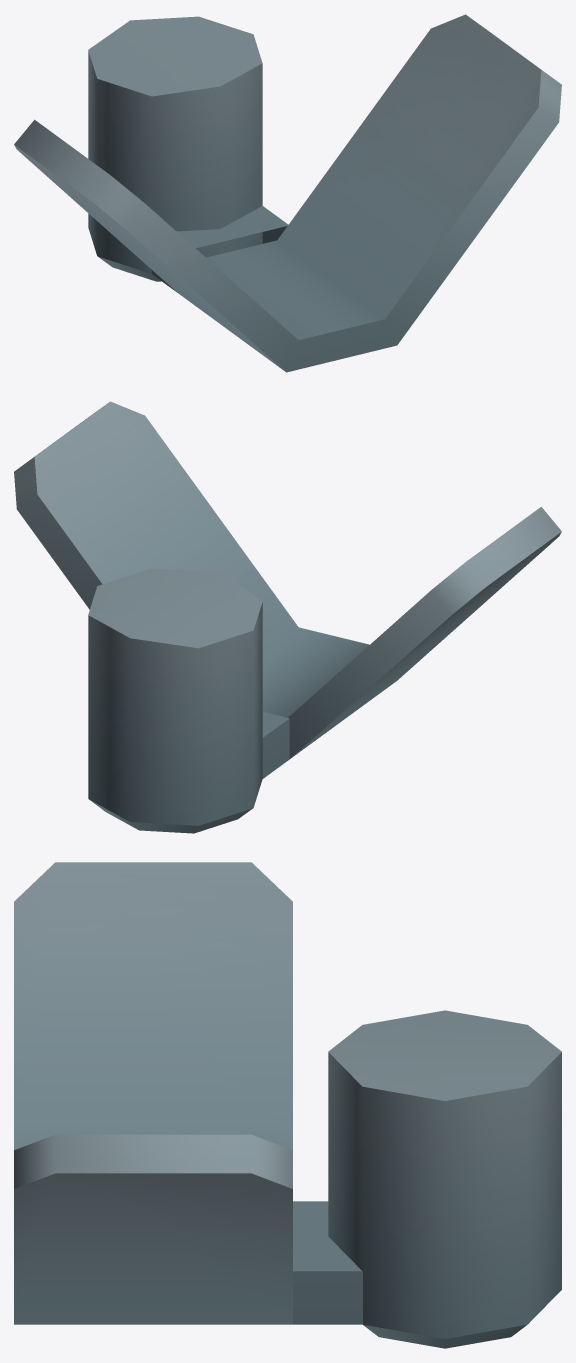
File: Support_001.fbx
3 views of the same model, one above another, from view 1: azimuth 30°, elevation 25°; view 2: azimuth 150°, elevation 25°; view 3: azimuth 270°, elevation 25° (orthographic). The views are drawn at different scales.
Visible parts, largest first — view 1: Support_001; view 2: Support_001; view 3: Support_001.
Part boxes in pixels (x1=…): Support_001: x1=14, y1=14, x2=561, y2=372; Support_001: x1=14, y1=401, x2=561, y2=833; Support_001: x1=14, y1=862, x2=561, y2=1348.
Size of the model in its own units: 36.96 by 28.68 by 17.94.
